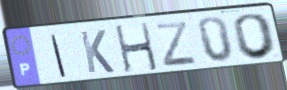0: (197, 16, 235, 65)
H: (113, 21, 160, 75)
I: (49, 33, 68, 79)
K: (78, 28, 117, 75)
O: (232, 12, 280, 61)
Z: (153, 20, 199, 69)
